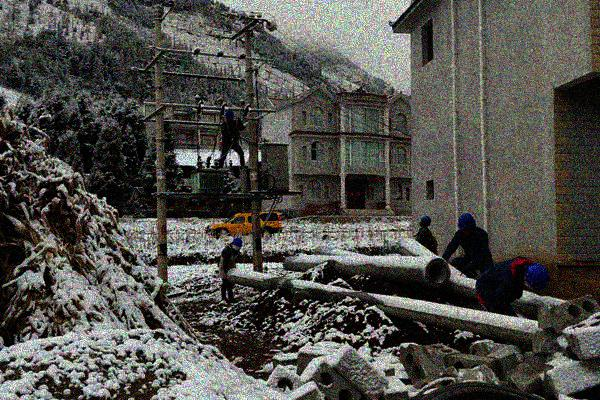helmet: (521, 260, 550, 293), (456, 211, 478, 235), (232, 235, 244, 252), (417, 215, 432, 228), (225, 110, 234, 122)
